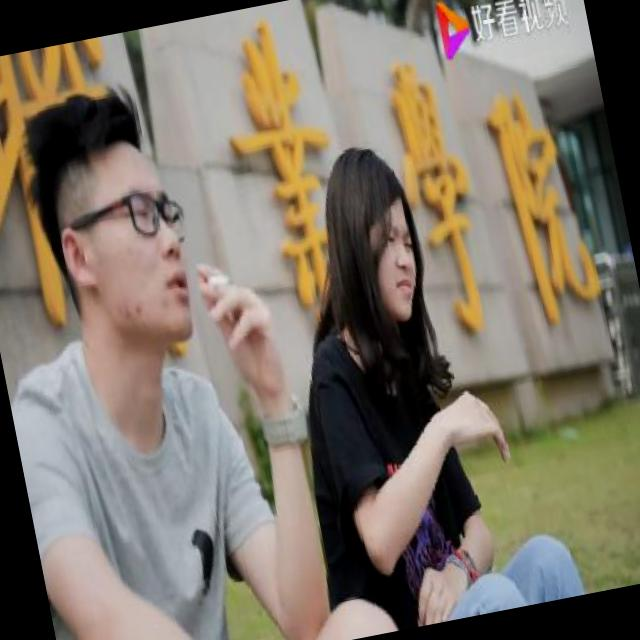smoke: (194, 261, 243, 304)
